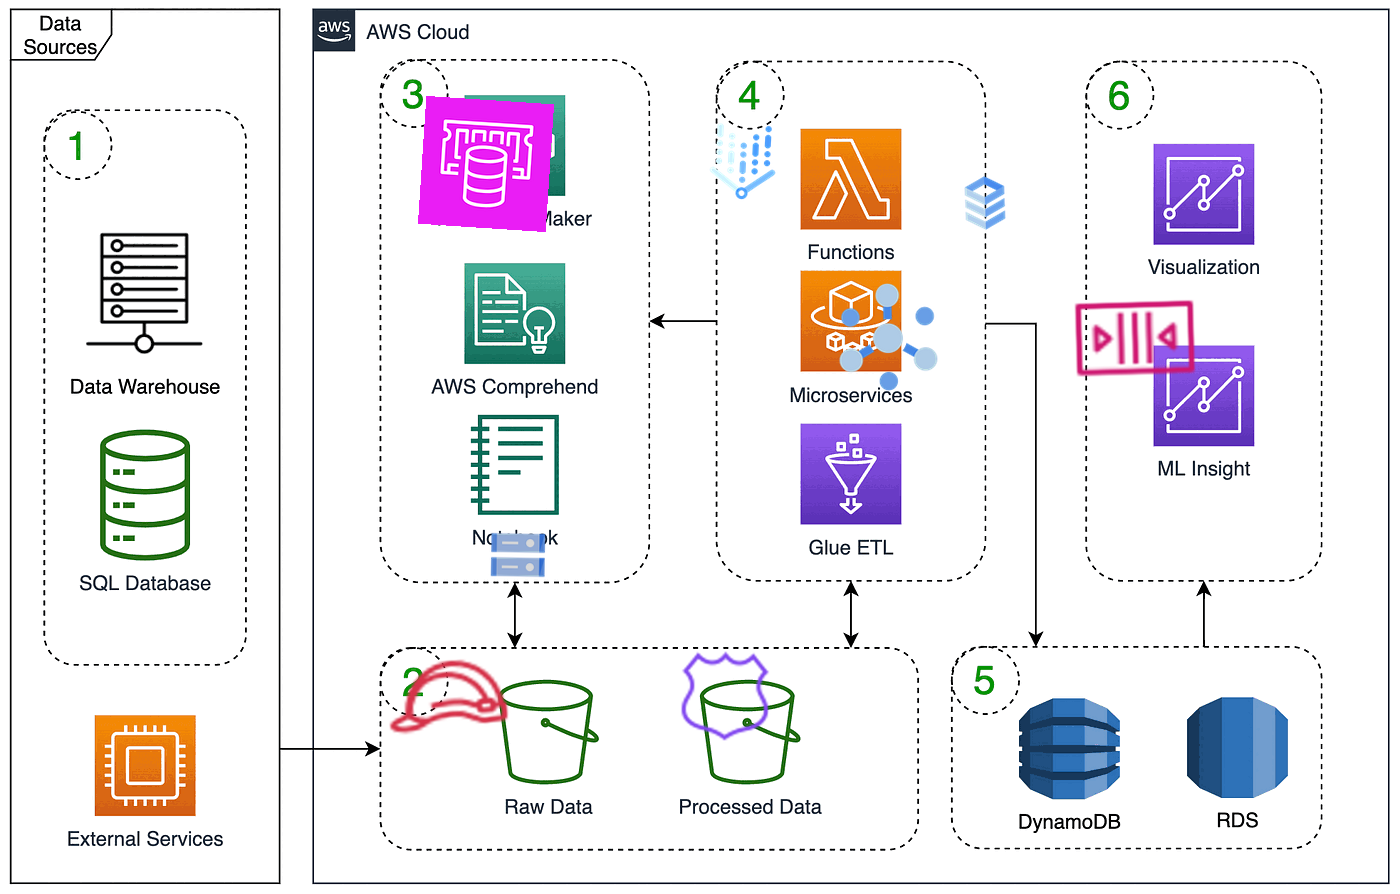aws_amazon_elasticache: (417, 95, 555, 233)
aws_identity_access_management_role: (378, 627, 516, 765)
aws_route_53_hosted_zone: (677, 647, 776, 745)
aws_simple_queue_service_queue: (1069, 271, 1201, 403)
gcp_cloud_sql: (951, 169, 1019, 237)
gcp_cloud_storage: (485, 521, 551, 588)
gcp_pubsub: (822, 271, 954, 403)
gcp_vertex_ai: (692, 111, 794, 213)
